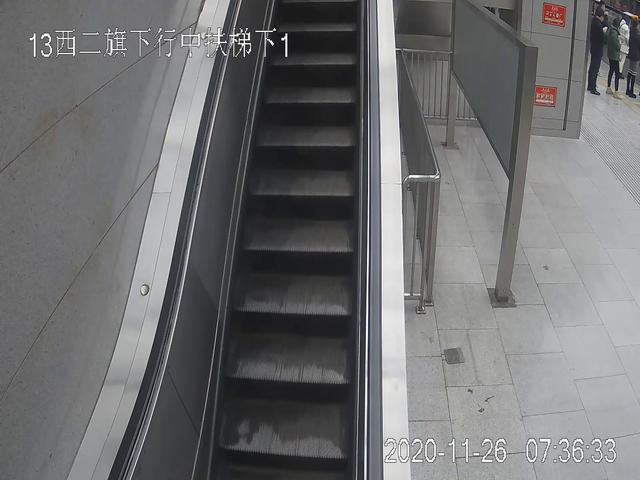person: (606, 19, 625, 100), (588, 7, 603, 96)
